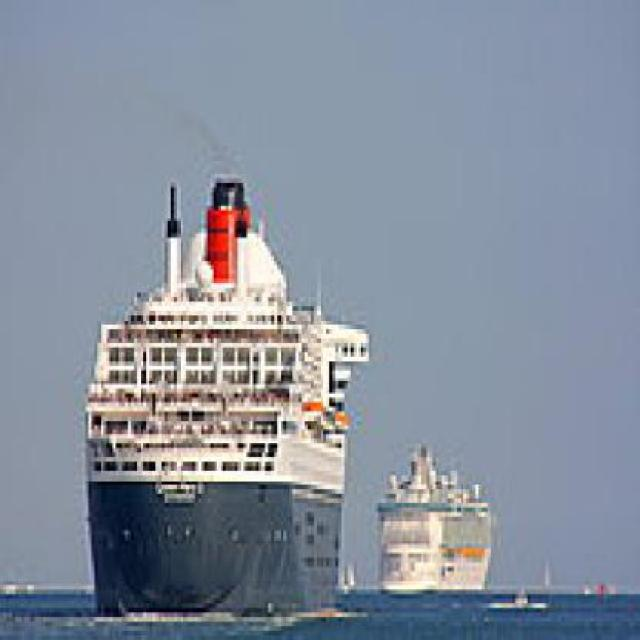cruise: (74, 152, 366, 613), (367, 426, 507, 614)
